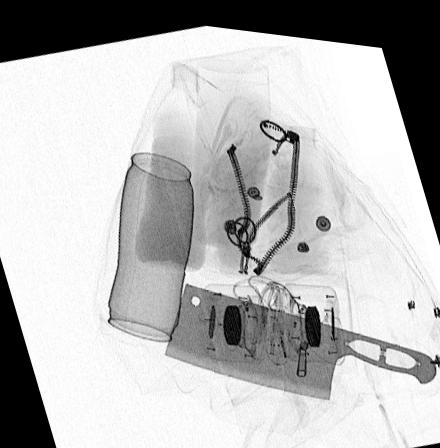Knife: (162, 277, 437, 392)
